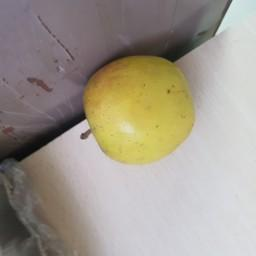Good_apple: (81, 49, 196, 168)
